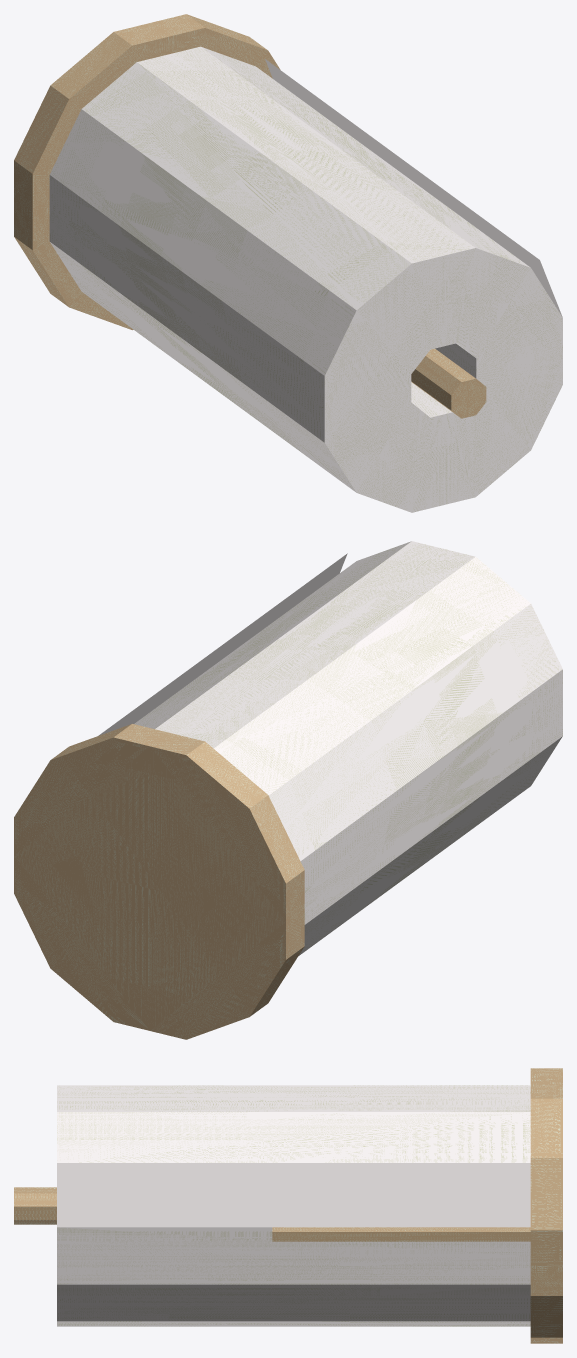
3 views of the same model, one above another, from view 1: azimuth 30°, elevation 25°; view 2: azimuth 150°, elevation 25°; view 3: azimuth 270°, elevation 25° (orthographic). The views are drawn at different scales.
Visible parts, largest first — view 1: paper towel holder; view 2: paper towel holder; view 3: paper towel holder.
Boxes of the visible parts, <box> form: paper towel holder: <box>14,14,562,512</box>; paper towel holder: <box>14,541,562,1039</box>; paper towel holder: <box>14,1068,562,1343</box>.
Bounding box in the file's own units: 6.28 × 6.28 × 12.75.
